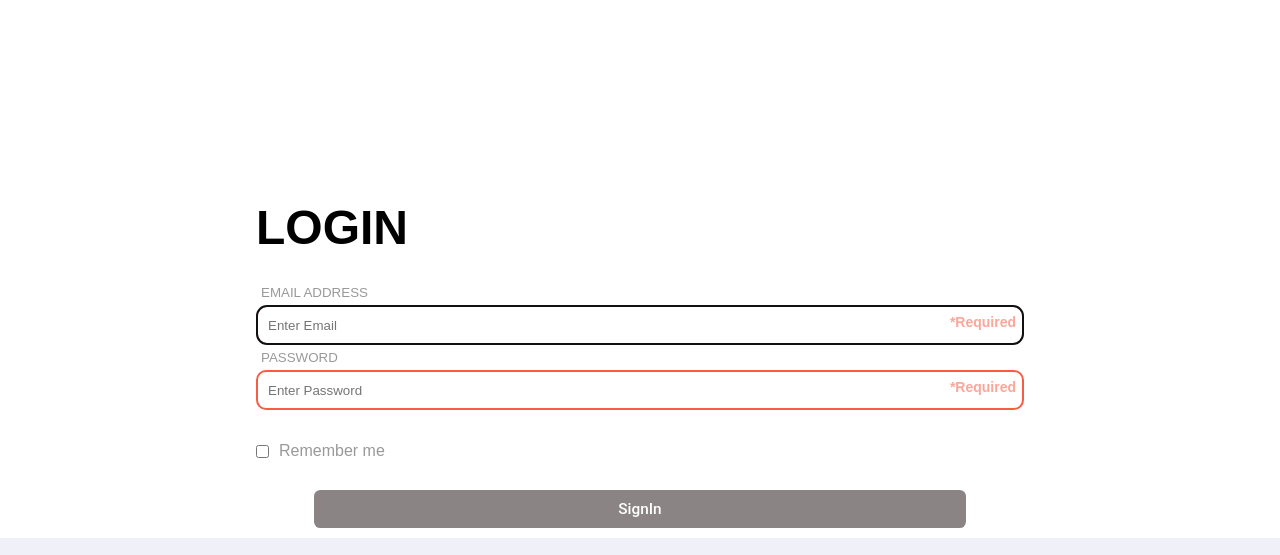
render the component › button › button should not be disabled when input exists
Type "test@mail.com" into the field labelled "EMAIL ADDRESS" at (640, 325), box [256,305,1024,345]
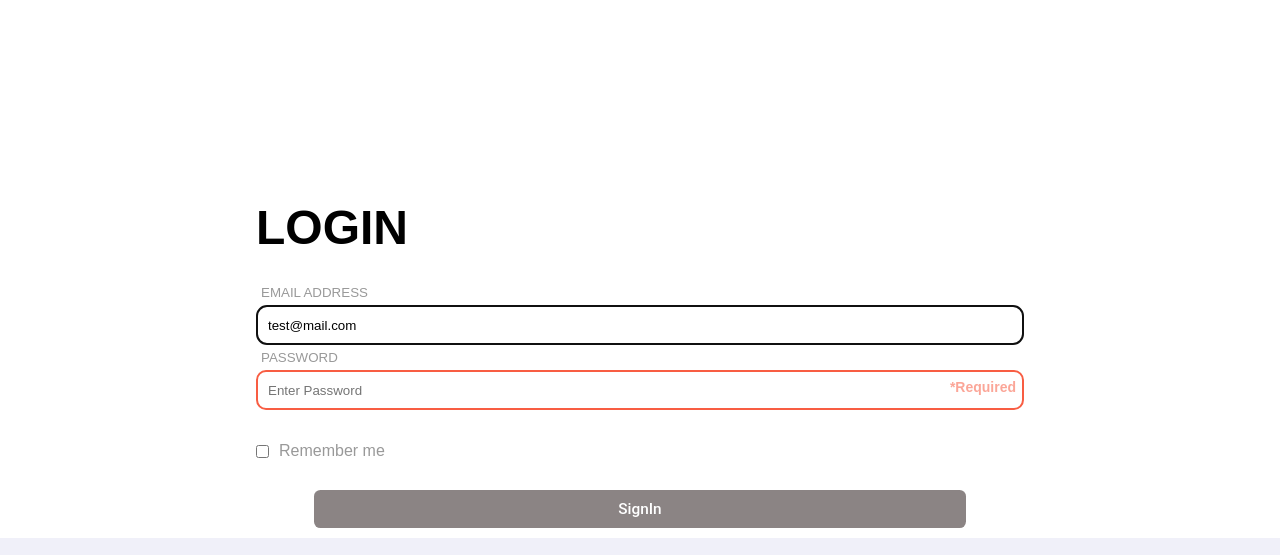
Type "testpass123" into the password field labelled "PASSWORD" at (640, 390), box [256,370,1024,410]
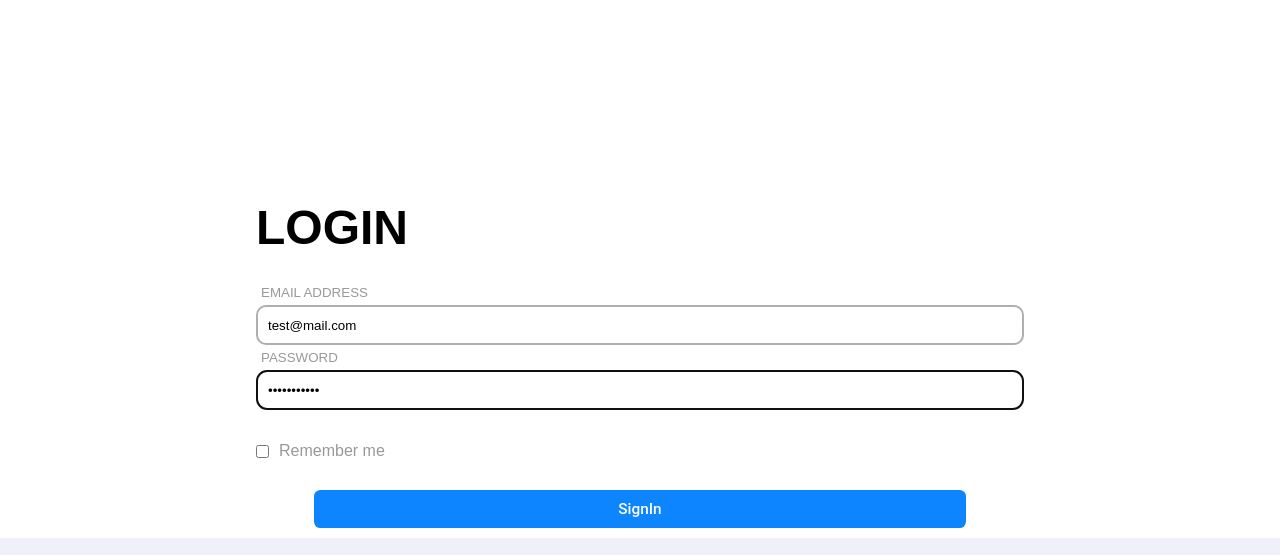
Now the button is enabled, box [314,490,966,528]
